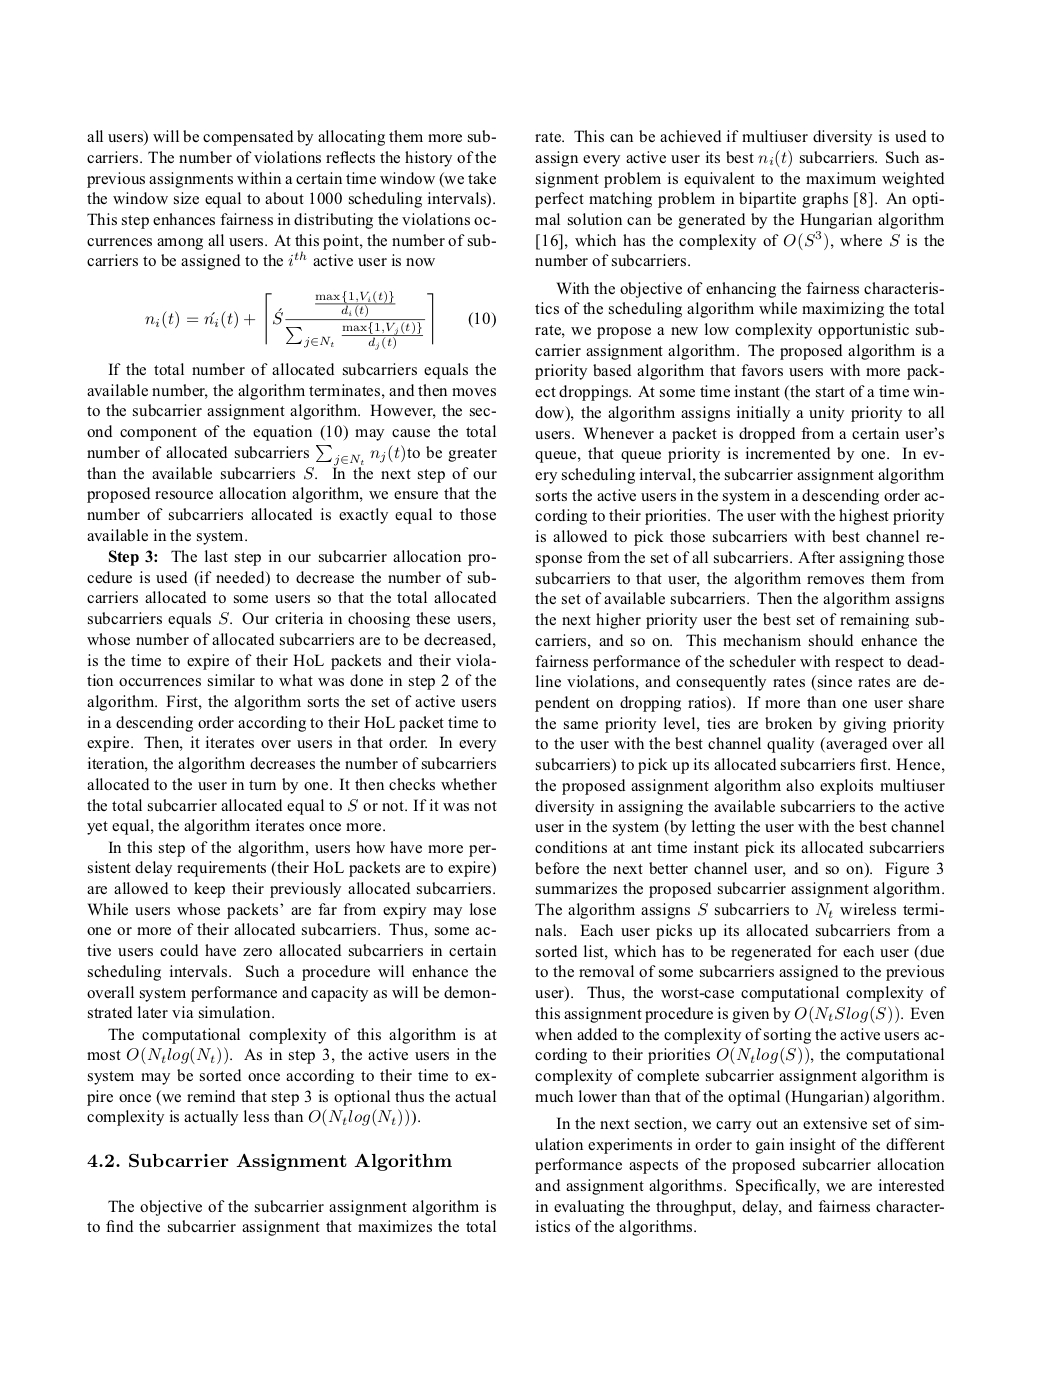formula: (145, 290, 495, 350)
